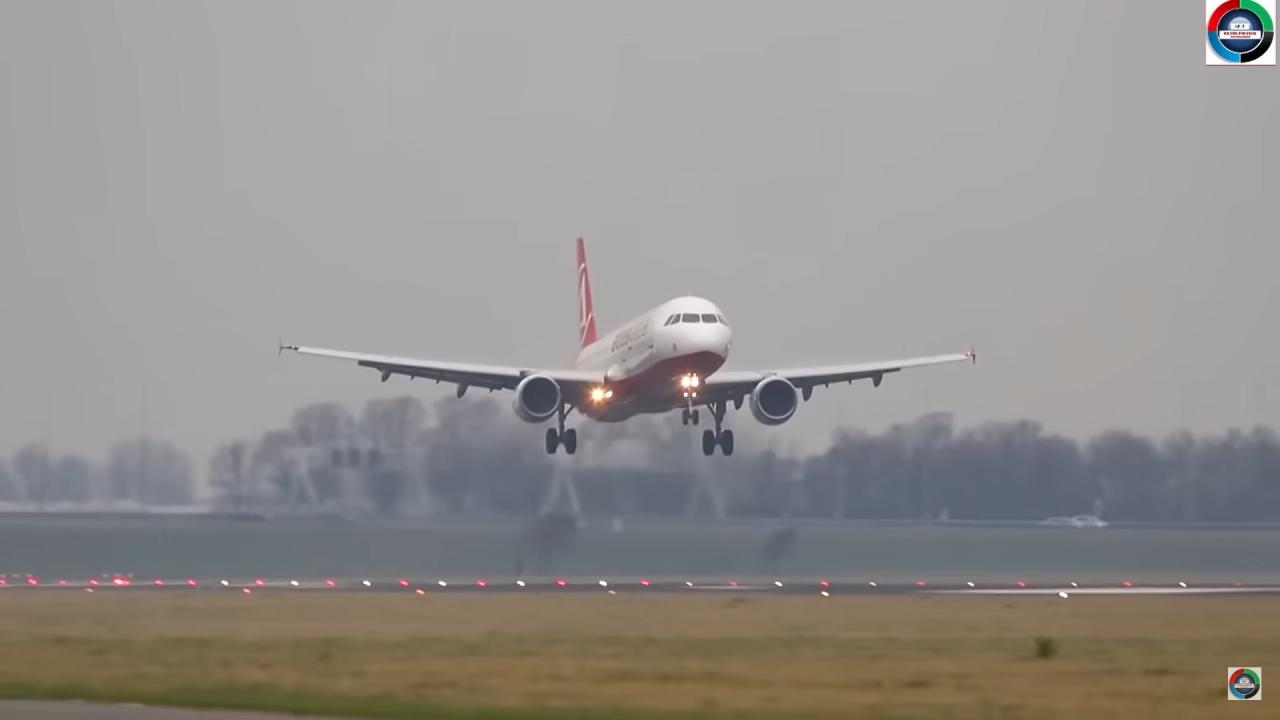Airplane: (265, 223, 993, 480)
